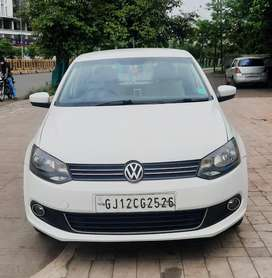GJ12CG2526: (94, 193, 176, 212)
